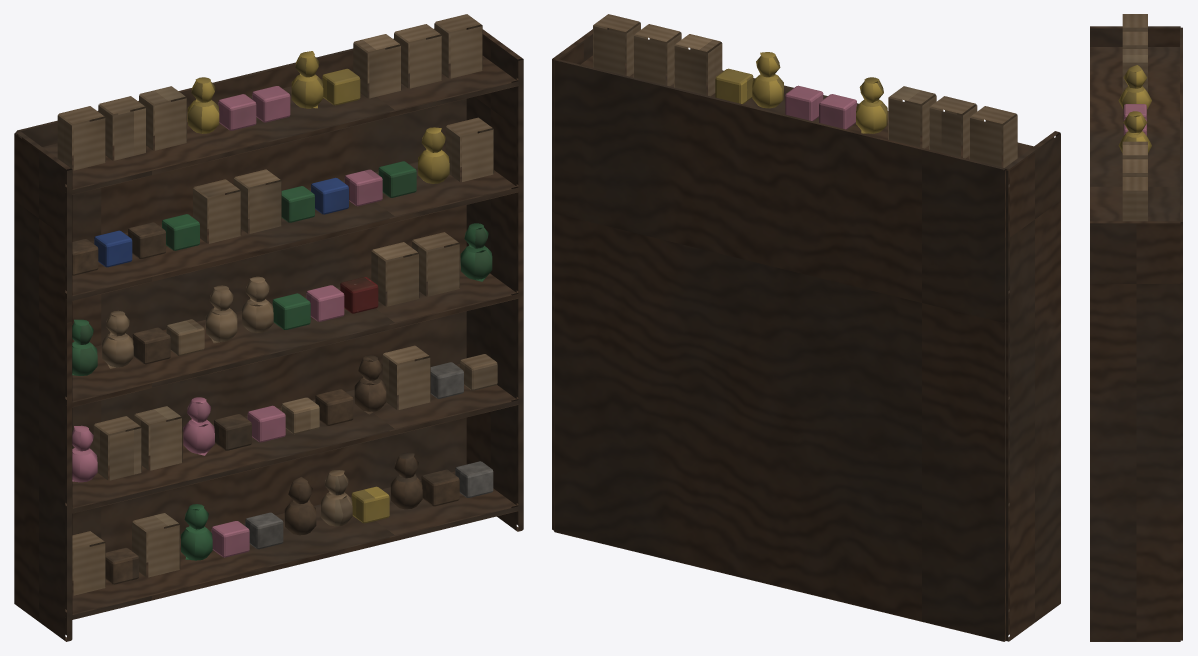
Rendered from W03_toy_shop_shelf_v2.glb.
3 views of the same model, side by side, from view 1: azimuth 30°, elevation 25°; view 2: azimuth 150°, elevation 25°; view 3: azimuth 270°, elevation 25° (orthographic). The views are drawn at different scales.
Parts seen in each view (by area): view 1: W03_toy_shop_shelf_v2; view 2: W03_toy_shop_shelf_v2; view 3: W03_toy_shop_shelf_v2.
Boxes of the visible parts, x1=… form: W03_toy_shop_shelf_v2: x1=14, y1=14, x2=523, y2=641; W03_toy_shop_shelf_v2: x1=552, y1=14, x2=1060, y2=641; W03_toy_shop_shelf_v2: x1=1090, y1=14, x2=1182, y2=641.
Size of the model in its own units: 1.9 by 2 by 0.3832.
Materials: 9 (9 with a texture image).
